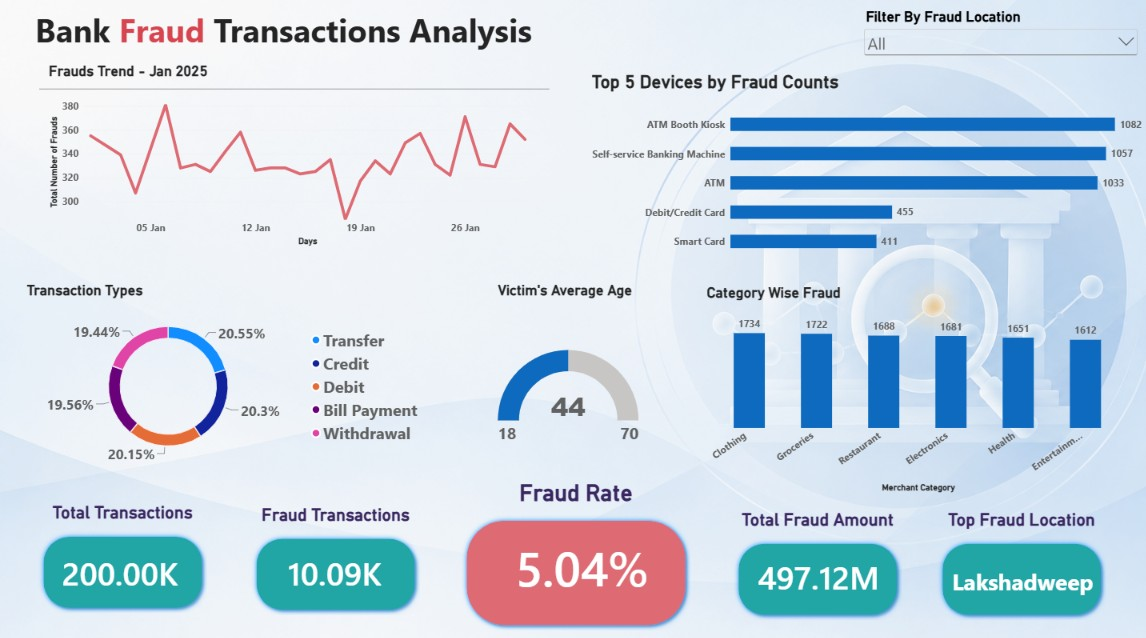

The dashboard page shown, as its layout file describes it:
{"tool":"powerbi","page":{"name":"Page 1","canvas":[1920,1080],"ordinal":0},"visuals":[{"type":"shape","title":"Total Transactions","box":[65.2,845.7,281.7,185],"z":0},{"type":"textbox","box":[60,21.7,856.7,76.7],"z":1000},{"type":"shape","title":"Fraud Transactions","box":[419.6,847.8,281.7,185],"z":2000},{"type":"shape","title":"Fraud Rate","box":[769.6,806.5,382.6,252.2],"z":3000},{"type":"shape","title":"Total Fraud Amount","box":[1223.9,856.5,281.7,185],"z":4000},{"type":"cardVisual","fields":{"Data":["bankdb transactions.Fraud %"]},"box":[845.7,882.6,306.5,134.8],"z":6000},{"type":"cardVisual","fields":{"Data":["bankdb transactions.Total customers"]},"box":[89.1,895.7,258.7,134.8],"z":7000},{"type":"cardVisual","fields":{"Data":["bankdb transactions.Total Victim Customers"]},"box":[465.2,895.7,237,134.8],"z":8000},{"type":"lineChart","title":"Frauds Trend - Jan 2025","fields":{"Category":["bankdb transactions.transaction_date"],"Y":["Sum(bankdb transactions.is_fraud)"]},"box":[65.9,97.9,850.7,334.6],"z":10000},{"type":"donutChart","title":"Transaction Types","fields":{"Category":["bankdb transactions.transaction_type"],"Y":["Sum(bankdb transactions.is_fraud)"]},"box":[29.7,464,692.4,334.9],"z":11000},{"type":"slicer","fields":{"Values":["bankdb transactions.state"]},"box":[1436,20.9,465.7,105],"z":12000},{"type":"gauge","title":"Victim''s Average Age","fields":{"MaxValue":["Max(bankdb transactions.age)1"],"MinValue":["Min(bankdb transactions.age)"],"Y":["Median(bankdb transactions.age)"]},"box":[814.5,464,266.7,376.7],"z":13000},{"type":"columnChart","title":"Category Wise Fraud","fields":{"Category":["bankdb transactions.merchant_category"],"Y":["Sum(bankdb transactions.is_fraud)"]},"box":[1164,466,738,378],"z":14000},{"type":"clusteredBarChart","title":"Top 5 Devices by Fraud Counts","fields":{"Category":["bankdb transactions.transaction_device"],"Y":["Sum(bankdb transactions.is_fraud)"]},"box":[971.5,111.6,948.8,347.1],"z":15000},{"type":"cardVisual","fields":{"Data":["bankdb transactions.total fraud amount"]},"box":[1247.8,932.6,250,71.7],"z":16000},{"type":"shape","title":"Top Fraud Location","box":[1563,856.5,281.7,185],"z":17000},{"type":"textbox","box":[1589.1,932.6,278.3,97.8],"z":18000}]}

Visuals, with their boxes in screenshot pixels (x1, y1, x2, y2), scaled from the page's 1920x1080 canvas onto the 1146x638 screenshot:
"Total Transactions" shape: [x1=39, y1=500, x2=207, y2=609]
textbox: [x1=36, y1=13, x2=547, y2=58]
"Fraud Transactions" shape: [x1=250, y1=501, x2=419, y2=610]
"Fraud Rate" shape: [x1=459, y1=476, x2=688, y2=625]
"Total Fraud Amount" shape: [x1=731, y1=506, x2=899, y2=615]
cardVisual - bankdb transactions.Fraud %: [x1=505, y1=521, x2=688, y2=601]
cardVisual - bankdb transactions.Total customers: [x1=53, y1=529, x2=208, y2=609]
cardVisual - bankdb transactions.Total Victim Customers: [x1=278, y1=529, x2=419, y2=609]
"Frauds Trend - Jan 2025" lineChart: [x1=39, y1=58, x2=547, y2=255]
"Transaction Types" donutChart: [x1=18, y1=274, x2=431, y2=472]
slicer - bankdb transactions.state: [x1=857, y1=12, x2=1135, y2=74]
"Victim''s Average Age" gauge: [x1=486, y1=274, x2=645, y2=497]
"Category Wise Fraud" columnChart: [x1=695, y1=275, x2=1135, y2=499]
"Top 5 Devices by Fraud Counts" clusteredBarChart: [x1=580, y1=66, x2=1145, y2=271]
cardVisual - bankdb transactions.total fraud amount: [x1=745, y1=551, x2=894, y2=593]
"Top Fraud Location" shape: [x1=933, y1=506, x2=1101, y2=615]
textbox: [x1=948, y1=551, x2=1115, y2=609]
